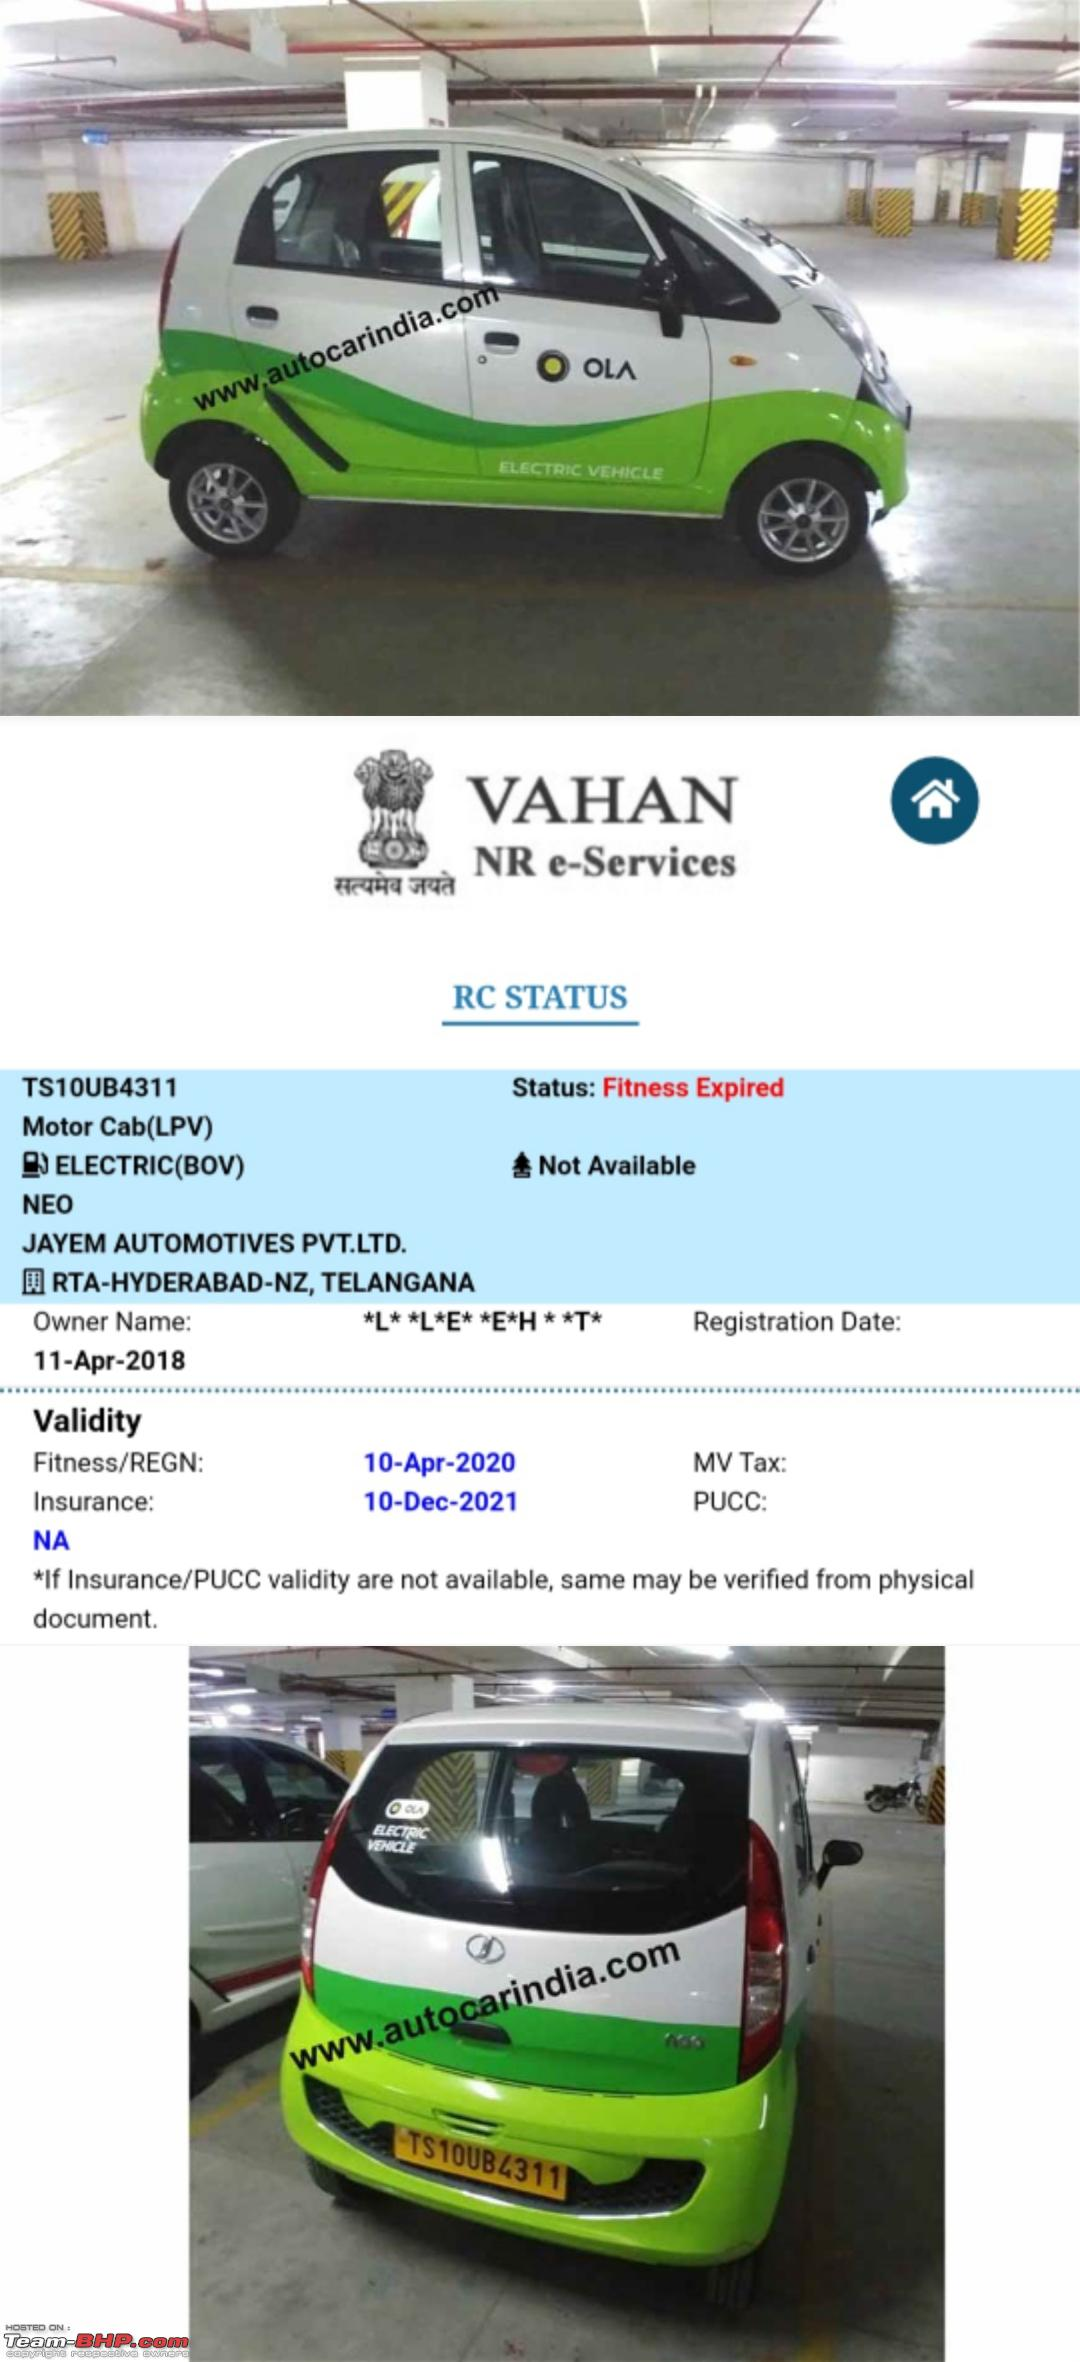Nano: (265, 1704, 865, 2321), (136, 136, 917, 578)
